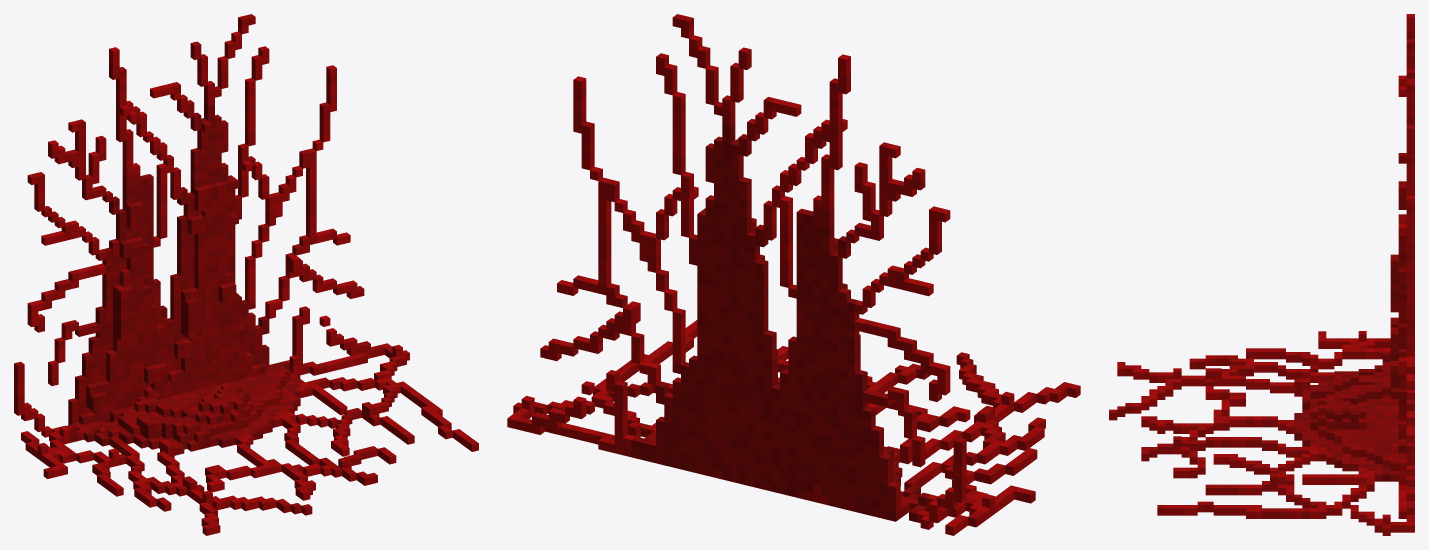
The model's file is Bines-4.obj.
The picture shows the model from 3 angles, left to right: view 1: azimuth 30°, elevation 25°; view 2: azimuth 150°, elevation 25°; view 3: azimuth 270°, elevation 25°; orthographic projection. The views are drawn at different scales.
Bounding box in the file's own units: 5.8 × 5.2 × 3.8.
Materials: 1 (1 with a texture image).
